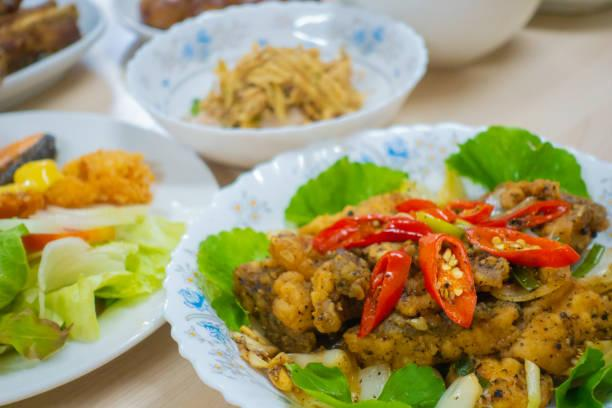Braised Crucian Carp: (162, 123, 606, 406), (124, 1, 420, 149)
